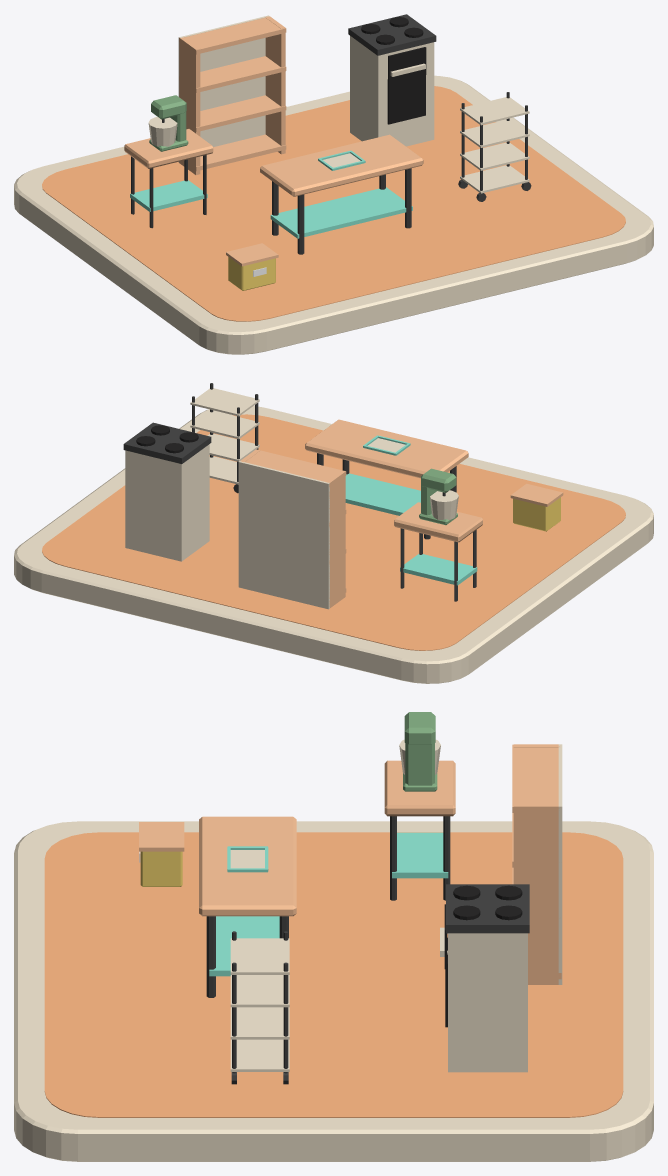
3 renders of one model, top to bottom at view 1: azimuth 30°, elevation 25°; view 2: azimuth 150°, elevation 25°; view 3: azimuth 270°, elevation 25°, orthographic. The views are drawn at different scales.
Visible parts, largest first — view 1: COM-02 Floor Surface, COM-01 Rounded Base Direct, Stove, Worktop, Back, Lower shelf, Side.001, Side, Shelf.003, Shelf.002, Hob, Worktop.001 (+13 smaller); view 2: COM-02 Floor Surface, COM-01 Rounded Base Direct, Back, Stove, Worktop, Lower shelf, Side, Hob, Worktop.001, Shelf.003, Lower shelf.001, Box (+7 smaller); view 3: COM-02 Floor Surface, COM-01 Rounded Base Direct, Stove, Worktop, Side.001, Worktop.001, Hob, Shelf.003, Lower shelf.001, Rack shelf.003, Lower shelf, Rack shelf.001 (+9 smaller).
Boxes of the visible parts, left/top/right/bottom form: COM-02 Floor Surface: left=42, top=86, right=625, bottom=321; COM-01 Rounded Base Direct: left=14, top=75, right=653, bottom=354; Stove: left=350, top=36, right=434, bottom=146; Worktop: left=260, top=134, right=423, bottom=196; Back: left=178, top=15, right=269, bottom=162; Lower shelf: left=270, top=187, right=412, bottom=238; Side.001: left=265, top=16, right=285, bottom=154; Side: left=179, top=36, right=200, bottom=174; Shelf.003: left=179, top=17, right=286, bottom=54; Shelf.002: left=179, top=56, right=286, bottom=92; Hob: left=348, top=14, right=436, bottom=55; Worktop.001: left=124, top=129, right=213, bottom=168; COM-02 Floor Surface: left=42, top=414, right=625, bottom=650; COM-01 Rounded Base Direct: left=14, top=405, right=653, bottom=683; Back: left=238, top=461, right=329, bottom=609; Stove: left=125, top=444, right=209, bottom=561; Worktop: left=305, top=419, right=468, bottom=478; Lower shelf: left=345, top=473, right=420, bottom=515; Side: left=326, top=470, right=345, bottom=607; Hob: left=123, top=422, right=211, bottom=463; Worktop.001: left=394, top=502, right=482, bottom=542; Shelf.003: left=245, top=449, right=346, bottom=487; Lower shelf.001: left=400, top=554, right=477, bottom=585; Box: left=513, top=497, right=560, bottom=531; COM-02 Floor Surface: left=44, top=832, right=623, bottom=1117; COM-01 Rounded Base Direct: left=14, top=821, right=653, bottom=1161; Stove: left=448, top=933, right=527, bottom=1072; Worktop: left=199, top=816, right=296, bottom=916; Side.001: left=513, top=803, right=558, bottom=984; Worktop.001: left=384, top=760, right=455, bottom=816; Hob: left=446, top=884, right=529, bottom=933; Shelf.003: left=512, top=744, right=560, bottom=812; Lower shelf.001: left=392, top=832, right=448, bottom=878; Rack shelf.003: left=230, top=938, right=289, bottom=974; Lower shelf: left=209, top=916, right=279, bottom=976; Rack shelf.001: left=230, top=1007, right=289, bottom=1039.
Bounding box in the file's own units: 6 × 1.9 × 5.2.
Materials: 1 (1 with a texture image).
